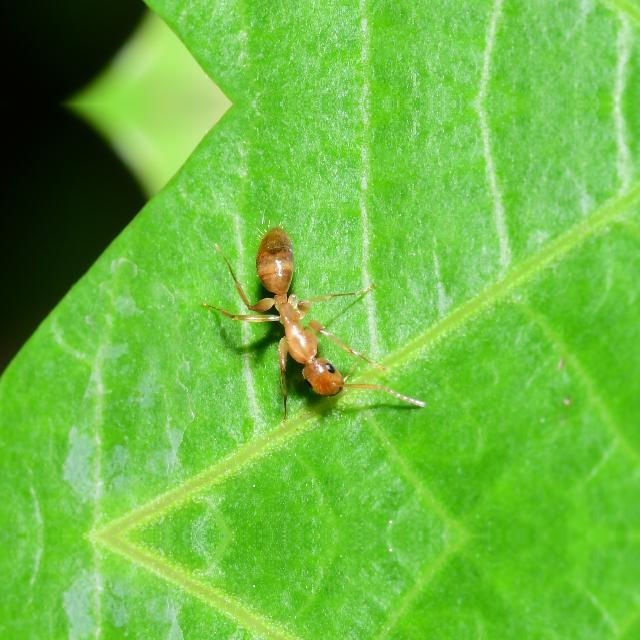Colobopsis: (196, 216, 416, 427)
